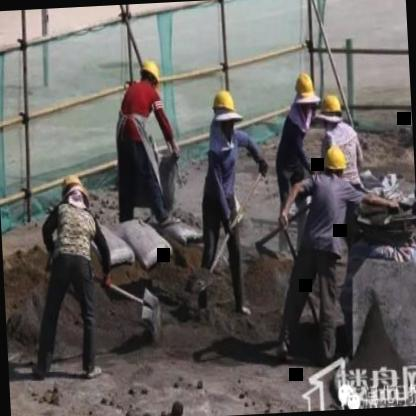helmet: (292, 69, 320, 124), (209, 88, 240, 134), (136, 54, 164, 96), (316, 90, 344, 132), (60, 176, 92, 212), (322, 144, 350, 180)
